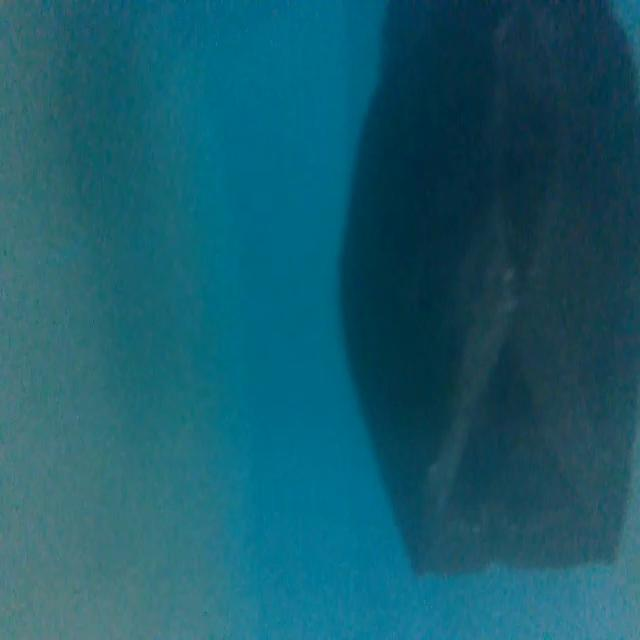plastic bags: (339, 10, 635, 573)
